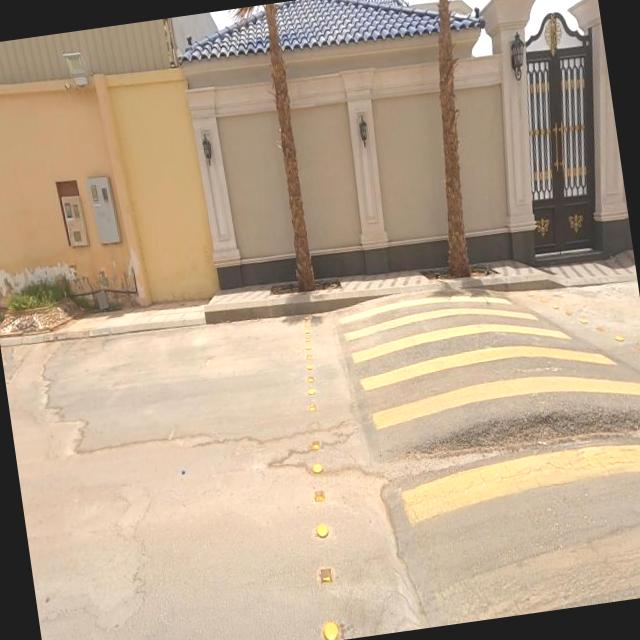debris: (49, 211, 172, 363), (0, 214, 107, 327)
